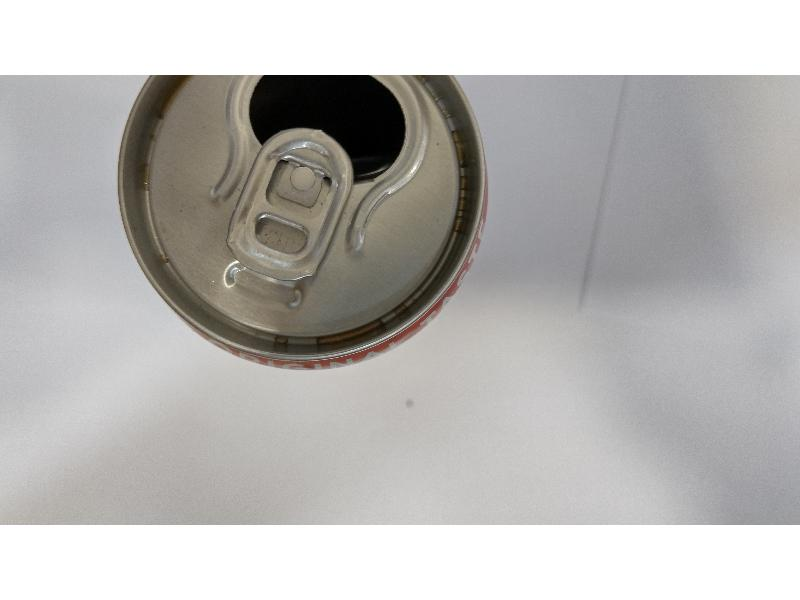can: (111, 72, 502, 389)
